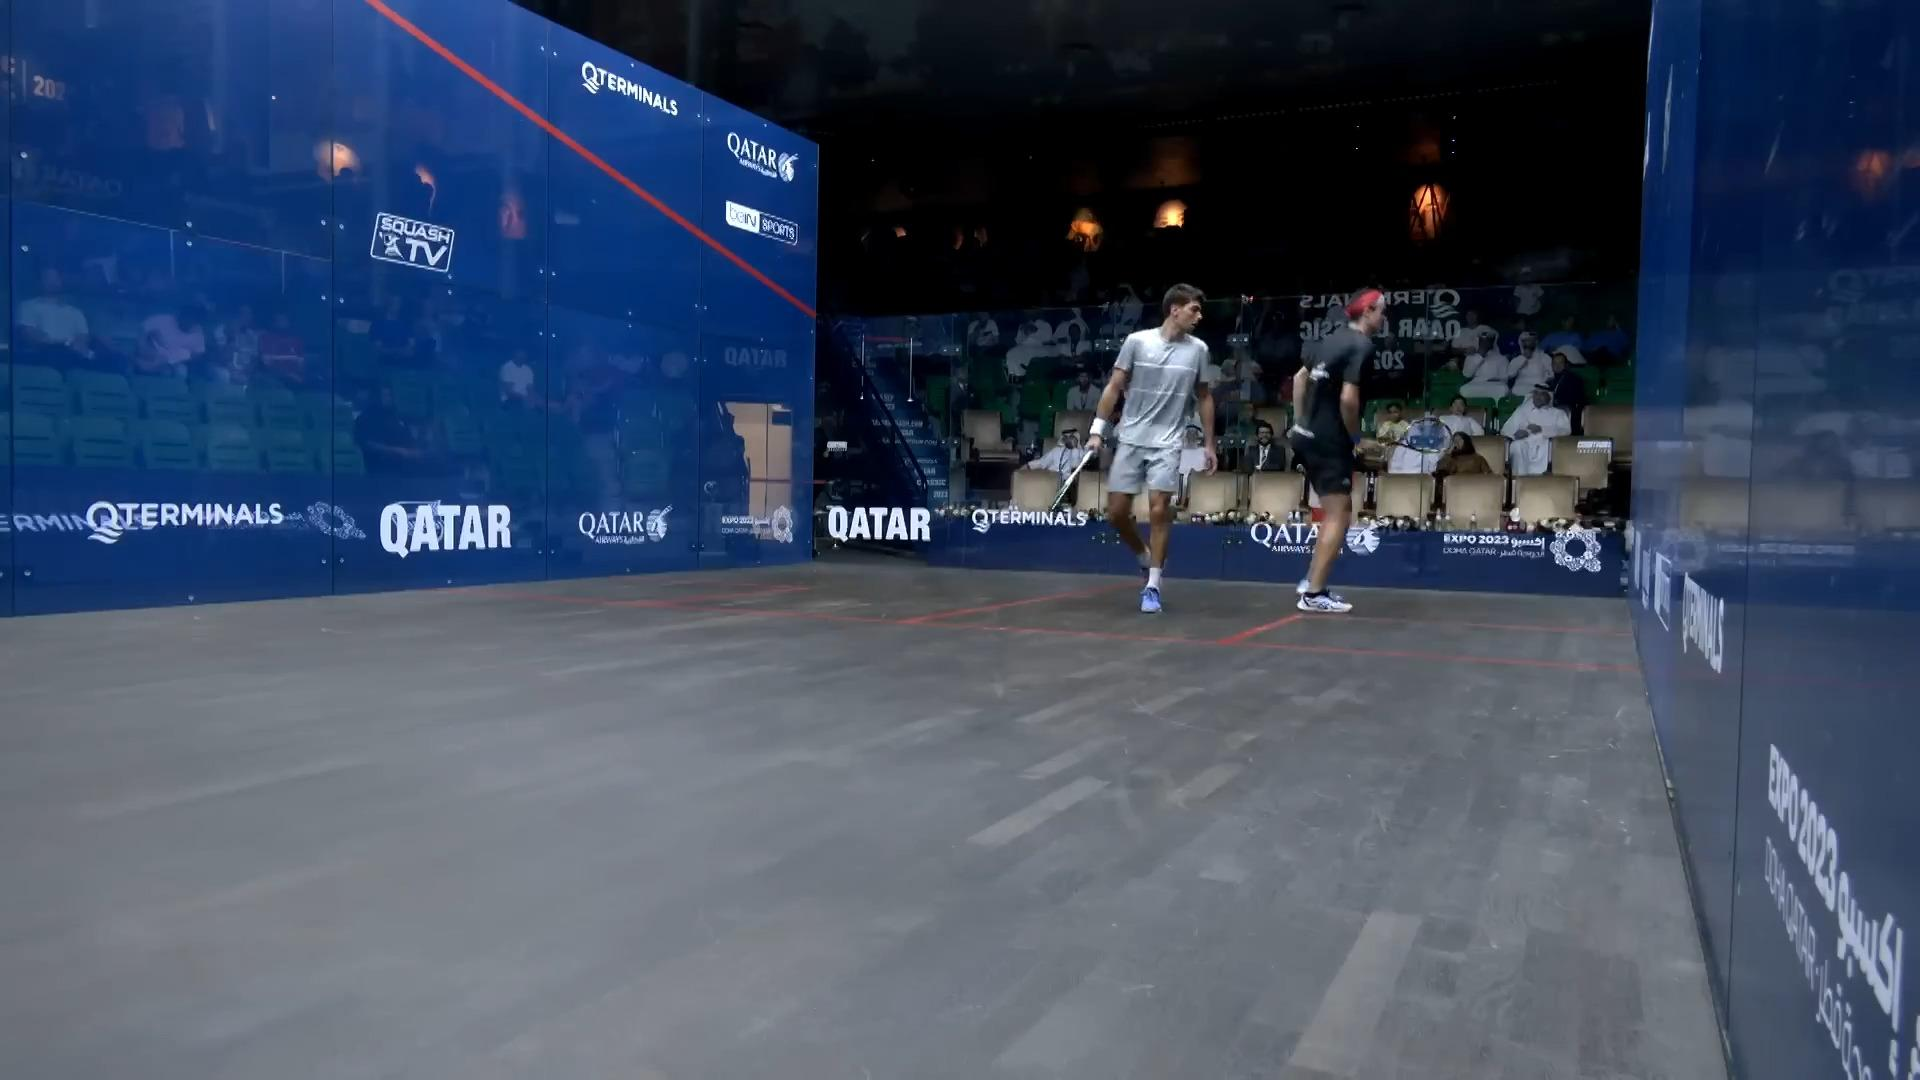Racket: (1367, 409, 1464, 464), (1035, 448, 1100, 522)
